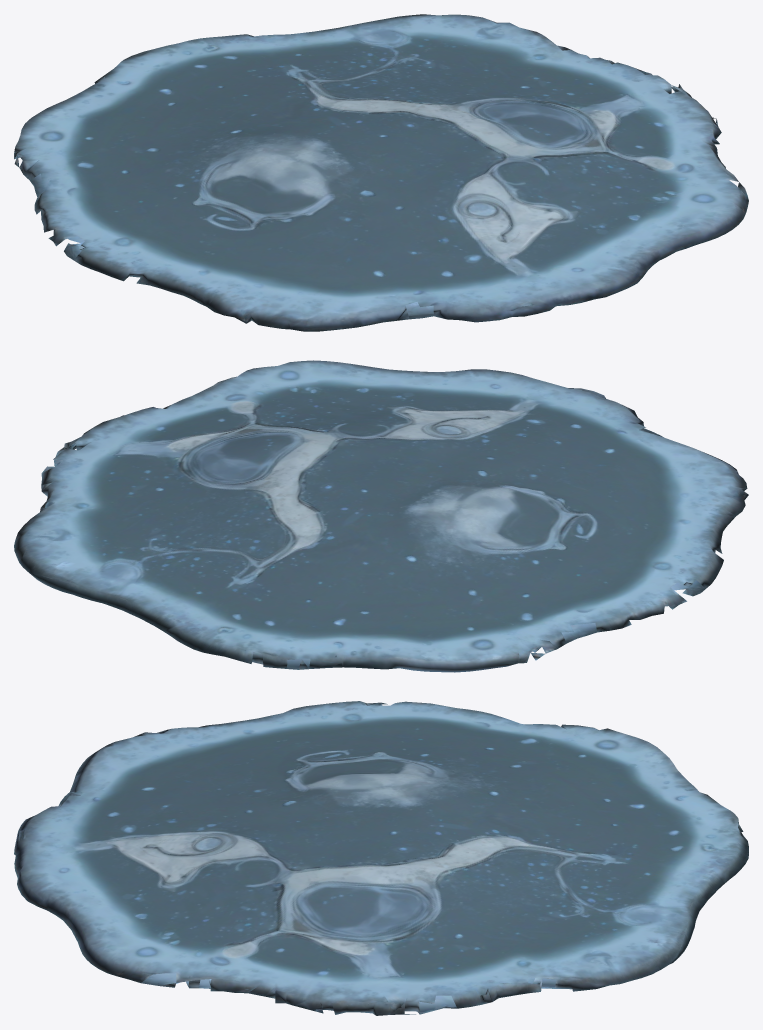
File: aad5f19a-14a5-43e1-b00d-1ada8f1c401e.glb
3 renders of one model, top to bottom at view 1: azimuth 30°, elevation 25°; view 2: azimuth 150°, elevation 25°; view 3: azimuth 270°, elevation 25°, orthographic.
Size of the model in its own units: 1.99 by 0.1107 by 1.98.
1 material, 1 textured.
